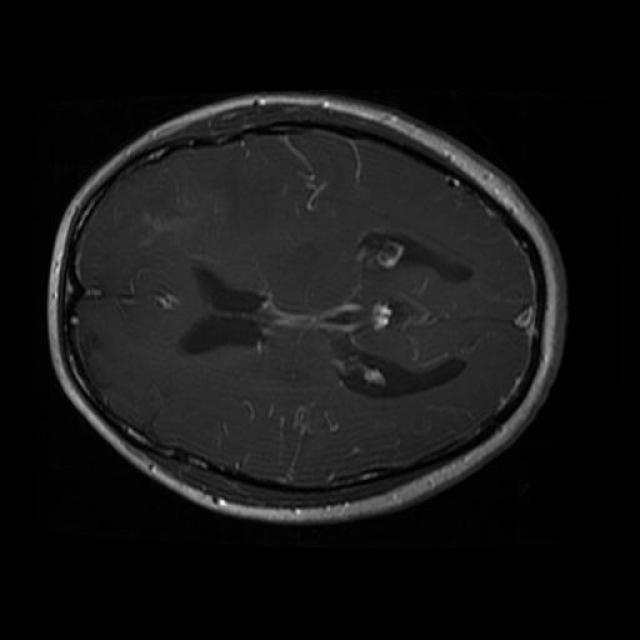Glioma: (137, 195, 205, 247)
